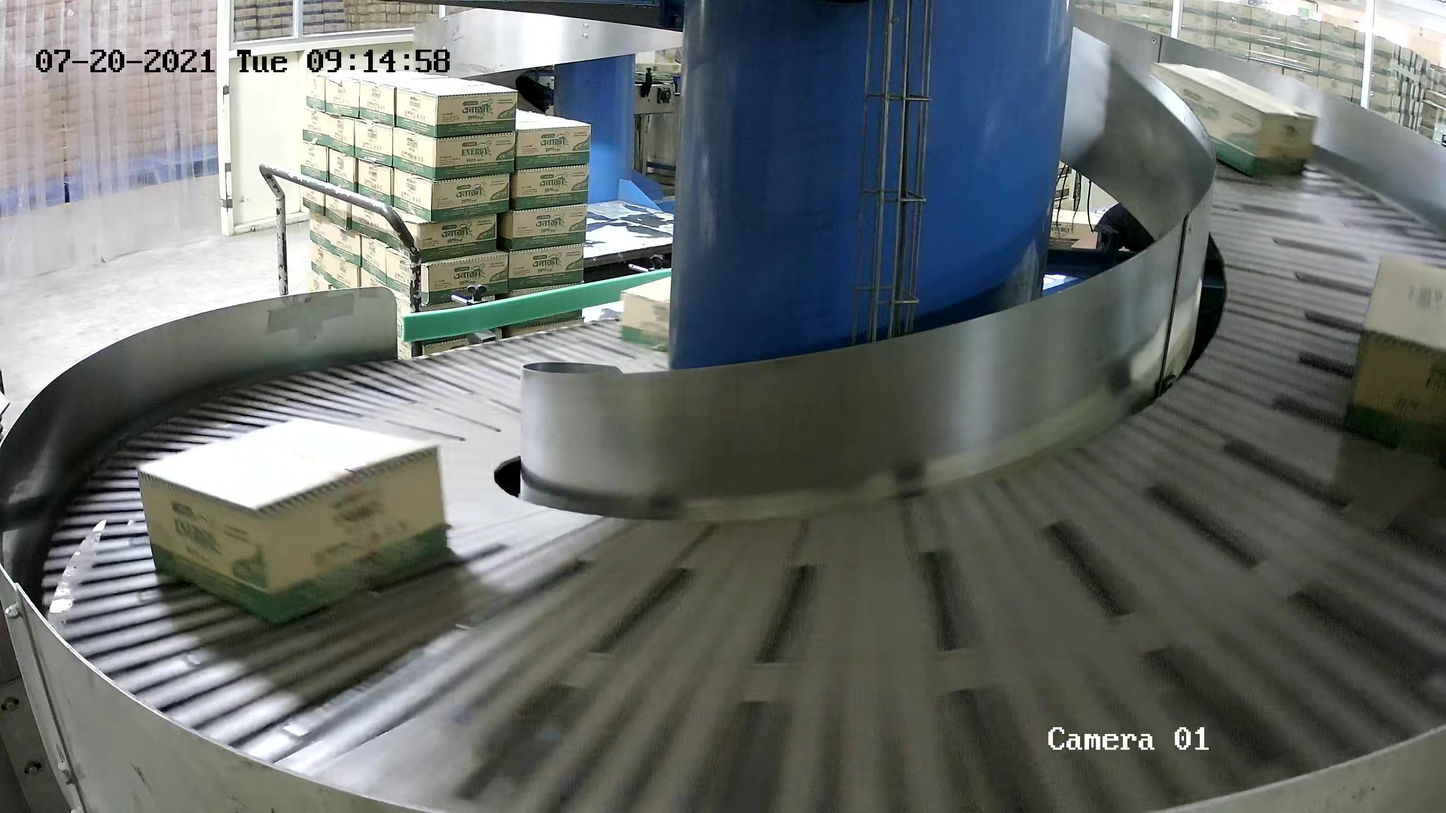Box: (136, 416, 449, 626), (1345, 249, 1446, 448), (1148, 61, 1319, 177), (620, 275, 671, 349)
